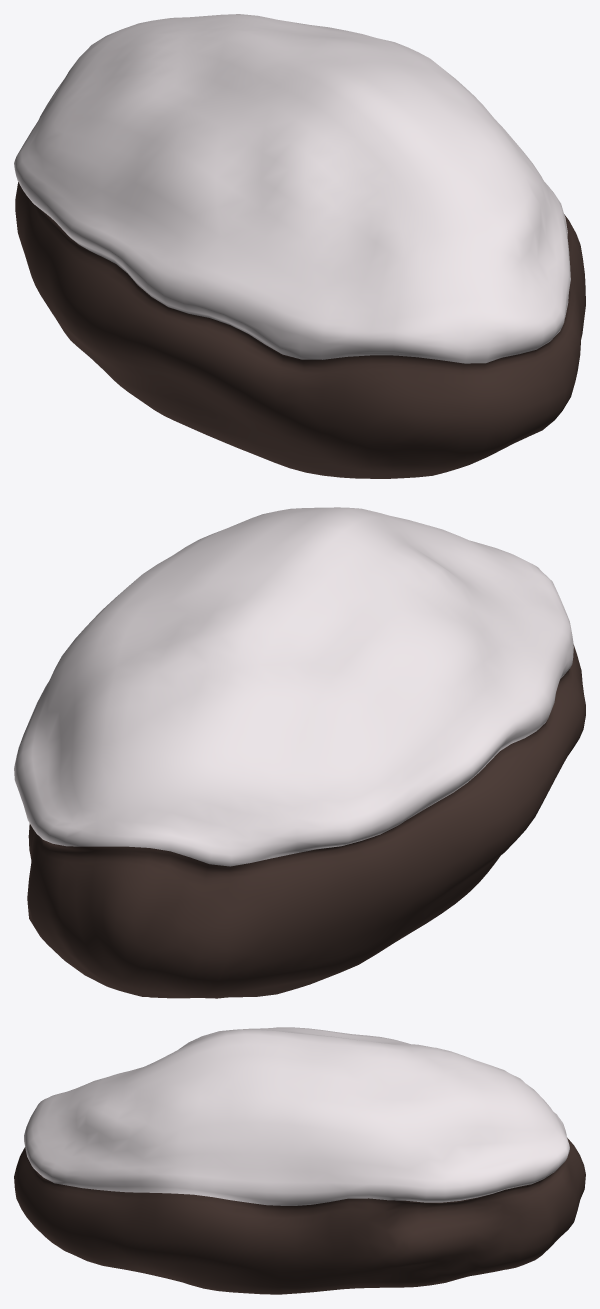
The model's file is RockWithSnow.fbx.
The picture shows the model from 3 angles, top to bottom: view 1: azimuth 30°, elevation 25°; view 2: azimuth 150°, elevation 25°; view 3: azimuth 270°, elevation 25°; orthographic projection. The views are drawn at different scales.
Visible parts, largest first — view 1: PolySphere; view 2: PolySphere; view 3: PolySphere.
Part boxes in pixels (x1=…): PolySphere: x1=14, y1=14, x2=585, y2=478; PolySphere: x1=14, y1=507, x2=585, y2=998; PolySphere: x1=14, y1=1027, x2=585, y2=1294.
Bounding box in the file's own units: 266 × 212 × 434.
